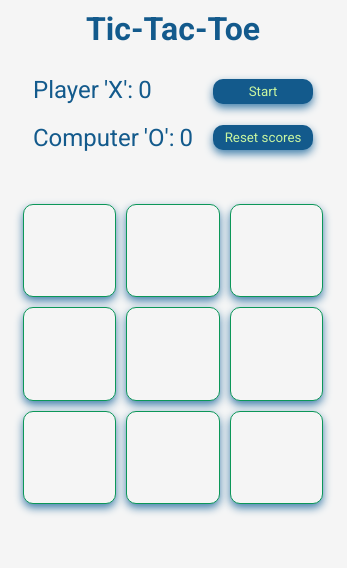
Test: TicTacToe › starts the game end button is pressed
Click the button with id "start-button". click: (263, 91)
box: left=213, top=78, right=313, bottom=104
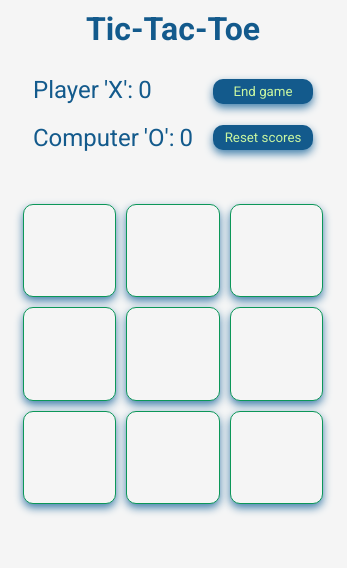
Click the 1st element with class "game-cell". click: (70, 251)
box: left=23, top=204, right=116, bottom=297
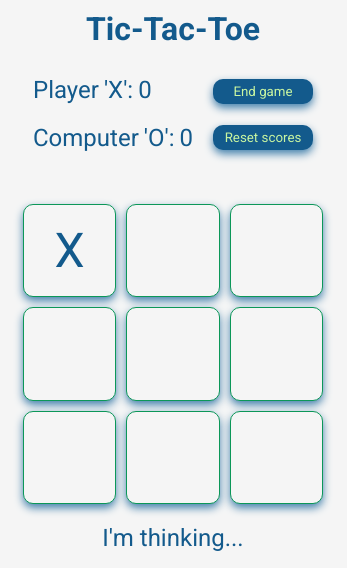
Result: the text with class "game-cell" reads "X" at left=55, top=222, right=85, bottom=279
